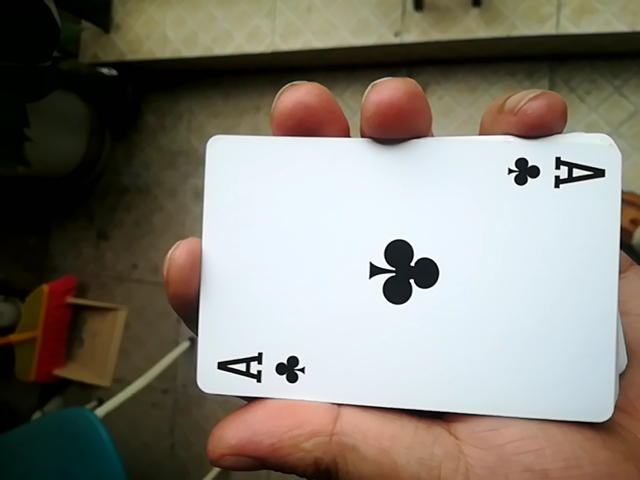mh a: (176, 142, 620, 425)
